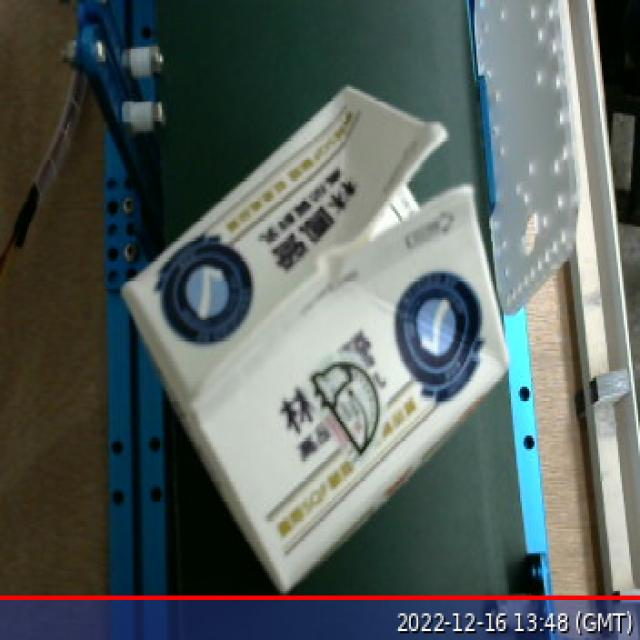non_white_jug: (87, 66, 521, 612)
